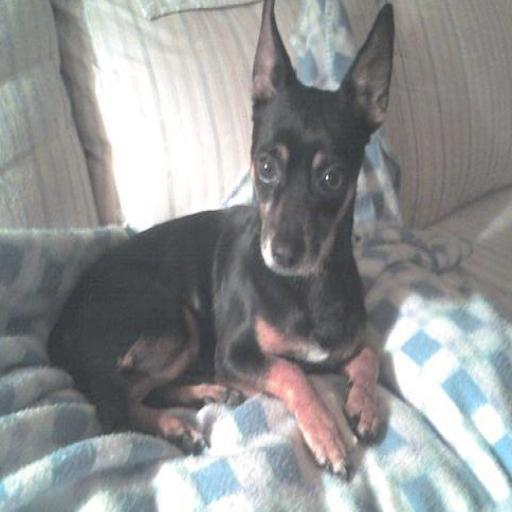dog_face: (244, 0, 398, 279)
